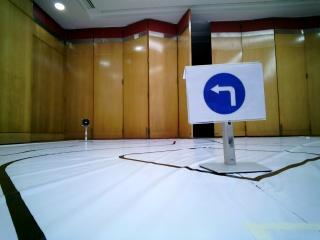left: (191, 68, 266, 123)
